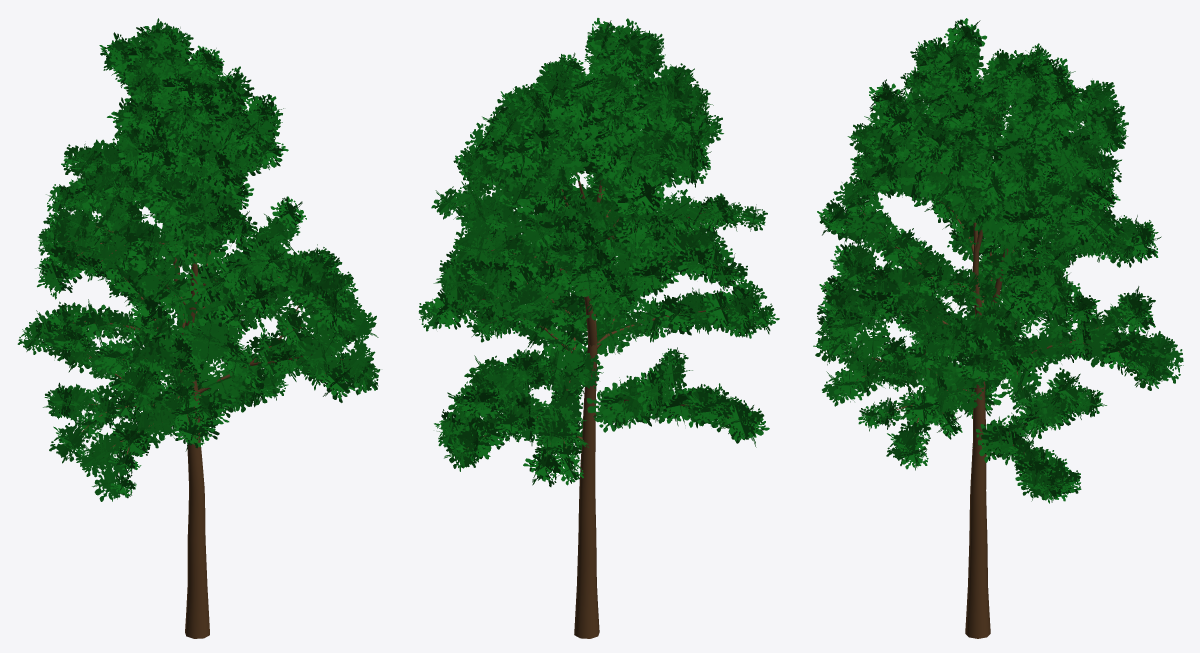
Rendered from Tree3FIXED.glb.
3 renders of one model, left to right at view 1: azimuth 30°, elevation 25°; view 2: azimuth 150°, elevation 25°; view 3: azimuth 270°, elevation 25°, orthographic. The views are drawn at different scales.
Parts seen in each view (by area): view 1: Plane (×62), tree; view 2: Plane (×62), tree; view 3: Plane (×58), tree.
Part boxes in pixels (x1,y1,x2,y2): Plane (×62): (37,37,378,501); tree: (58,116,349,638); Plane (×62): (426,18,761,486); tree: (454,67,739,638); Plane (×58): (817,18,1177,501); tree: (846,116,1130,638).
Bounding box in the file's own units: 9.28 × 16.79 × 9.47.
2 materials, 1 textured.
